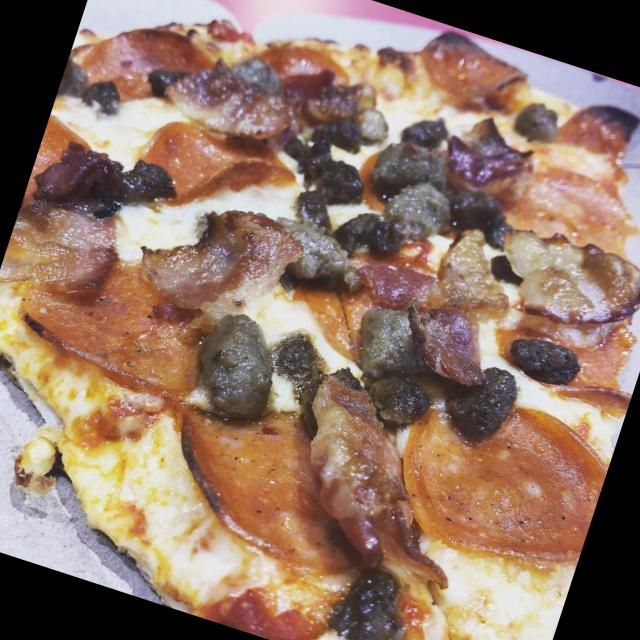pepperoni: (386, 378, 618, 586), (163, 377, 377, 566), (12, 235, 230, 402), (140, 99, 294, 232), (76, 6, 214, 122), (501, 304, 640, 412), (404, 21, 540, 130), (248, 36, 353, 96), (24, 116, 86, 206)
pizza: (0, 15, 640, 640)
